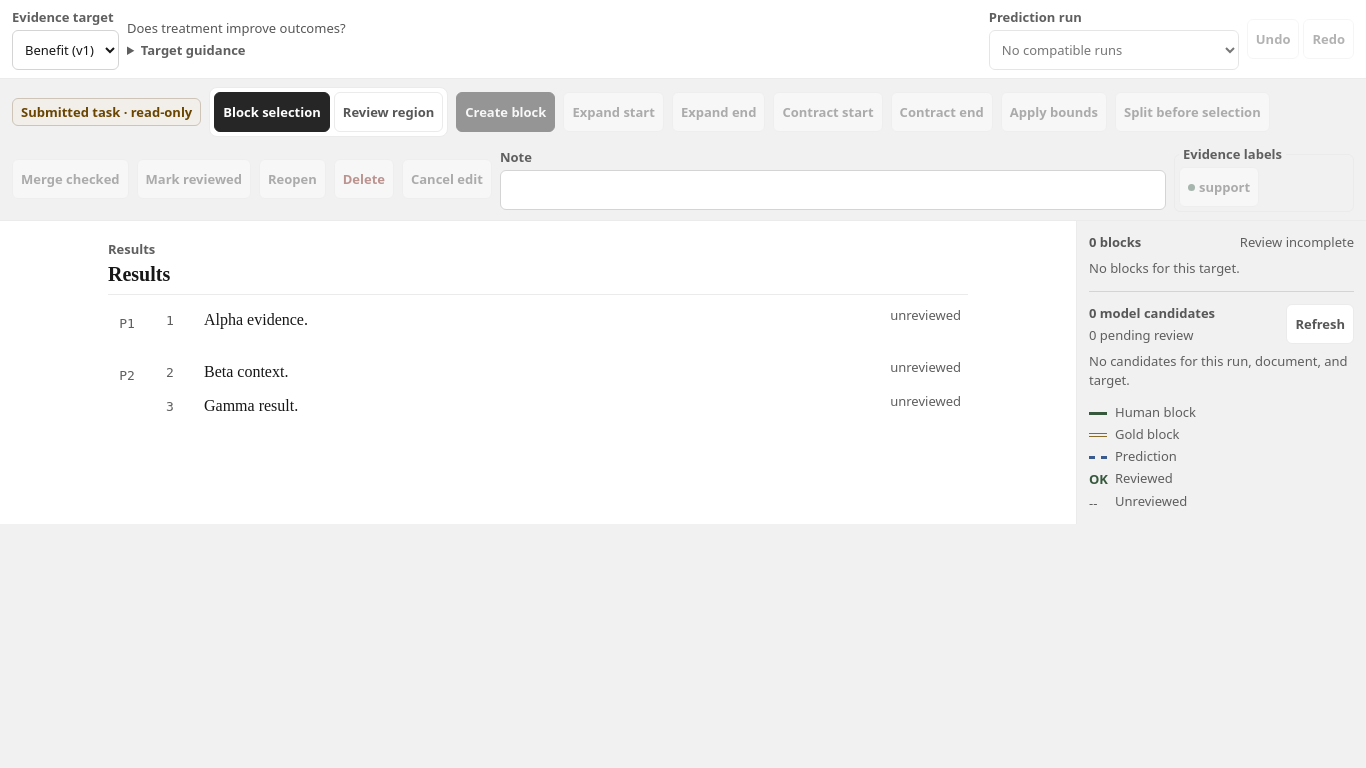
EvidenceBlockCanvas › updates the controlled assignment when the user chooses another evidence target
Expected: the button with aria-label "Sentence 1, unreviewed" is shown, top-left (154, 303), bottom-right (968, 337)
Select "Benefit (v2)" in the dropdown labelled "Evidence target" at (66, 50), box top-left (12, 30), bottom-right (119, 70)
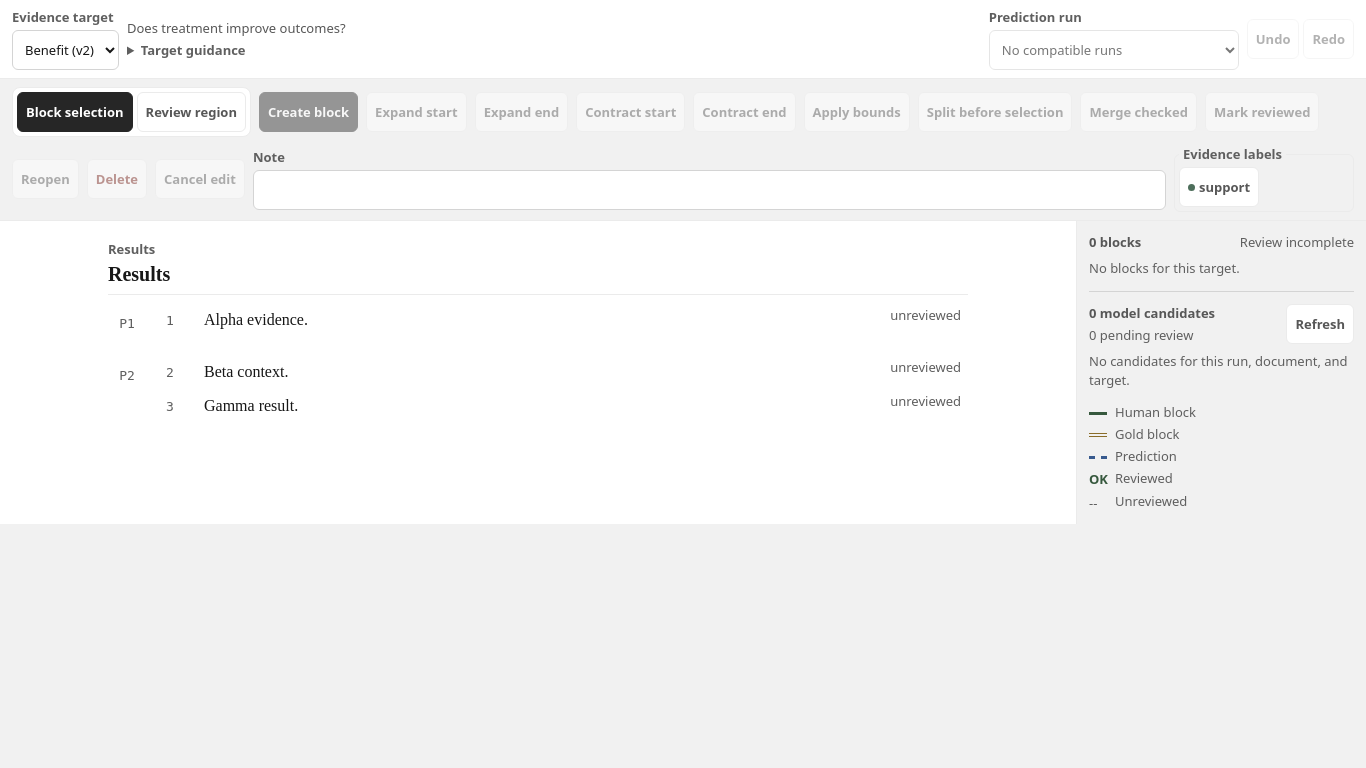
Expected: the field labelled "Note" is enabled, top-left (253, 170), bottom-right (1166, 210)
